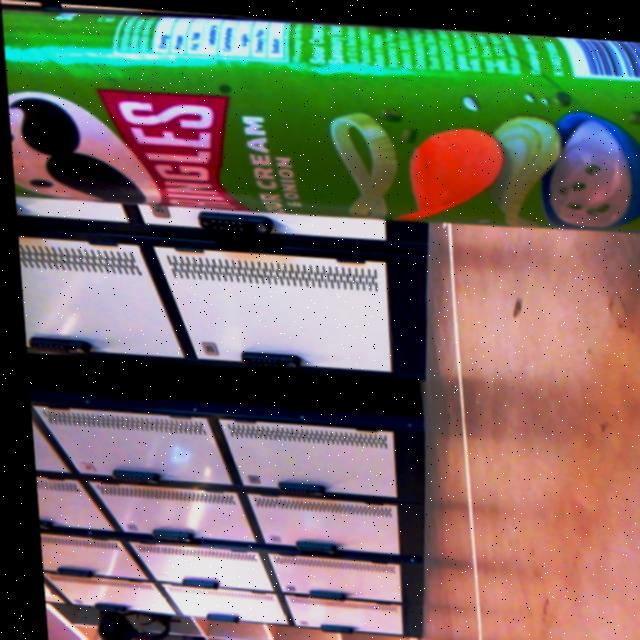greenpringles: (0, 0, 640, 251)
